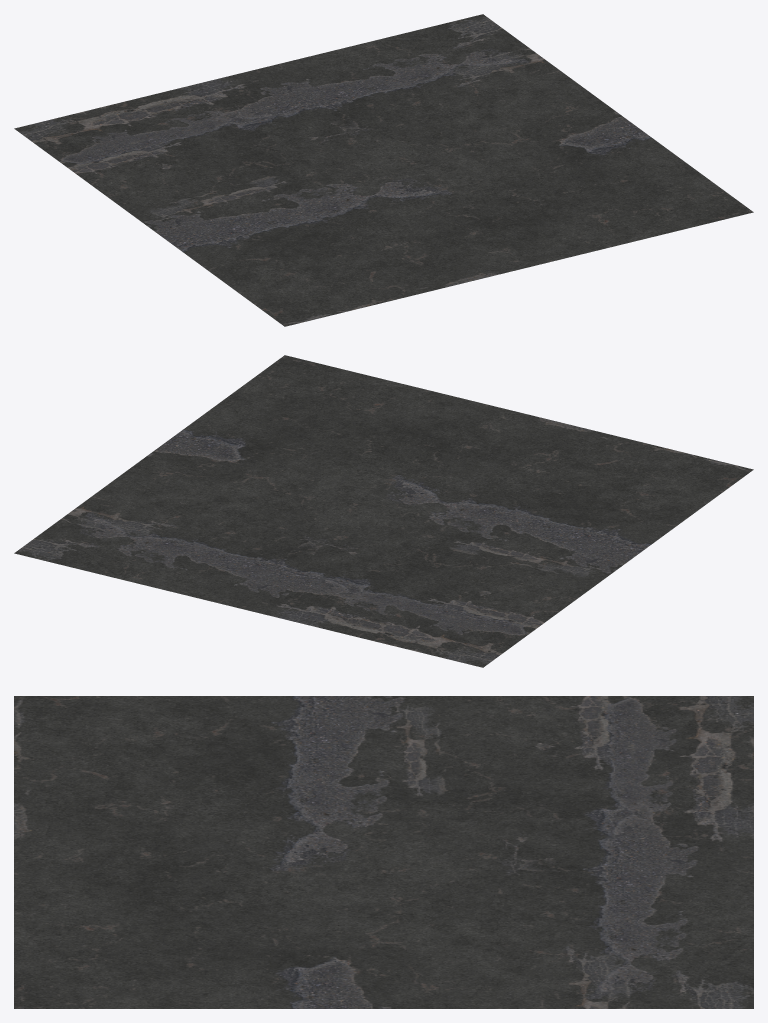
The model's file is roof1.glb.
3 views of the same model, one above another, from view 1: azimuth 30°, elevation 25°; view 2: azimuth 150°, elevation 25°; view 3: azimuth 270°, elevation 25° (orthographic). The views are drawn at different scales.
Visible parts, largest first — view 1: Plane.011; view 2: Plane.011; view 3: Plane.011.
Boxes of the visible parts, bbox=[...] form: Plane.011: bbox=[14, 14, 753, 326]; Plane.011: bbox=[14, 355, 753, 667]; Plane.011: bbox=[14, 696, 753, 1008].
Bounding box in the file's own units: 67.41 × 0 × 67.41.
Materials: 1 (1 with a texture image).
